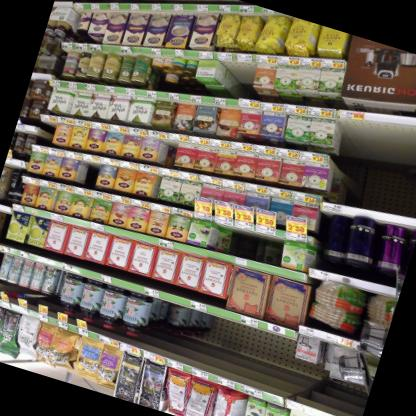empty_space: (338, 116, 416, 214), (255, 327, 296, 371), (227, 321, 262, 364), (204, 314, 236, 356), (220, 59, 252, 94), (230, 226, 254, 256), (241, 60, 257, 85), (83, 159, 97, 185), (41, 120, 55, 143), (259, 232, 281, 244)
